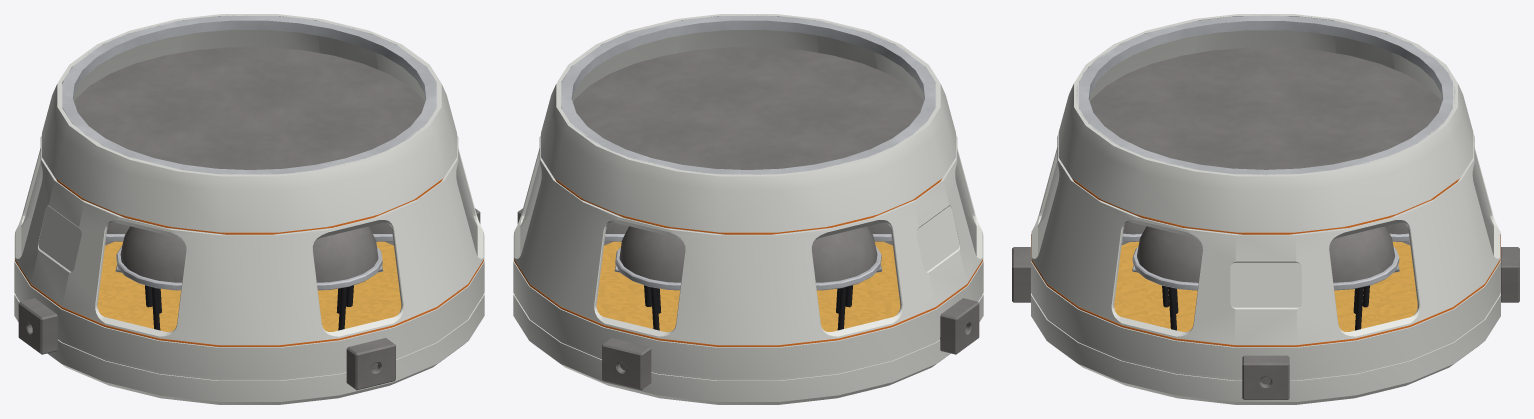
The model's file is ax_tank_16_lander_tank_section_xl.glb.
3 renders of one model, left to right at view 1: azimuth 30°, elevation 25°; view 2: azimuth 150°, elevation 25°; view 3: azimuth 270°, elevation 25°, orthographic.
Visible parts, largest first — view 1: shell, decks, interface_rings, mli_floor, spherical_tanks, leg_hardpoints, orange_stripes, tank_girth_rings, tank_struts; view 2: shell, decks, interface_rings, mli_floor, spherical_tanks, leg_hardpoints, orange_stripes, tank_girth_rings, tank_struts; view 3: shell, decks, interface_rings, mli_floor, spherical_tanks, leg_hardpoints, orange_stripes, tank_girth_rings, tank_struts.
Part boxes in pixels (x1,y1,x2,y2): shell: [14, 14, 484, 404]; decks: [74, 47, 424, 245]; interface_rings: [62, 15, 436, 174]; mli_floor: [97, 241, 401, 331]; spherical_tanks: [106, 222, 392, 282]; leg_hardpoints: [18, 208, 480, 390]; orange_stripes: [15, 178, 483, 346]; tank_girth_rings: [105, 234, 393, 290]; tank_struts: [145, 285, 353, 330]; shell: [513, 14, 983, 404]; decks: [573, 47, 923, 245]; interface_rings: [561, 15, 935, 174]; mli_floor: [596, 241, 900, 331]; spherical_tanks: [605, 222, 891, 282]; leg_hardpoints: [517, 208, 979, 390]; orange_stripes: [514, 178, 982, 346]; tank_girth_rings: [604, 234, 892, 290]; tank_struts: [644, 285, 852, 330]; shell: [1031, 14, 1500, 404]; decks: [1090, 47, 1441, 245]; interface_rings: [1076, 15, 1455, 175]; mli_floor: [1114, 241, 1417, 331]; spherical_tanks: [1123, 222, 1408, 282]; leg_hardpoints: [1012, 247, 1519, 399]; orange_stripes: [1031, 178, 1500, 346]; tank_girth_rings: [1122, 233, 1409, 290]; tank_struts: [1162, 285, 1369, 330].
Bounding box in the file's own units: 6.63 × 3.07 × 6.63.
6 materials, 3 textured.
